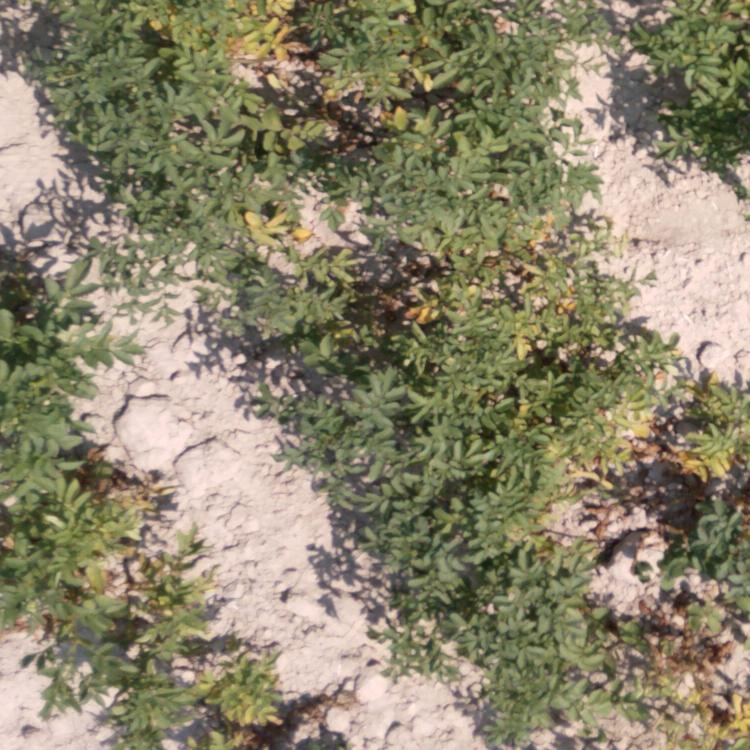healthy: (1, 276, 94, 657), (471, 503, 597, 750), (365, 414, 470, 665), (99, 470, 178, 750), (629, 5, 750, 160), (499, 6, 593, 178), (41, 1, 127, 154), (186, 639, 291, 744), (286, 366, 360, 502), (104, 182, 183, 267)
stressed: (493, 195, 663, 488), (136, 1, 340, 169), (355, 3, 479, 222), (365, 223, 487, 407), (223, 181, 349, 356), (601, 605, 750, 747), (671, 387, 750, 577)
